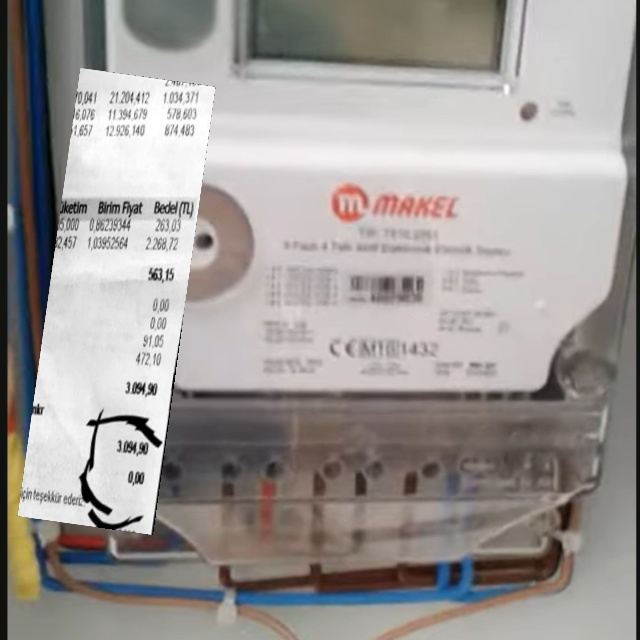electricity-bill: (17, 68, 215, 535)
